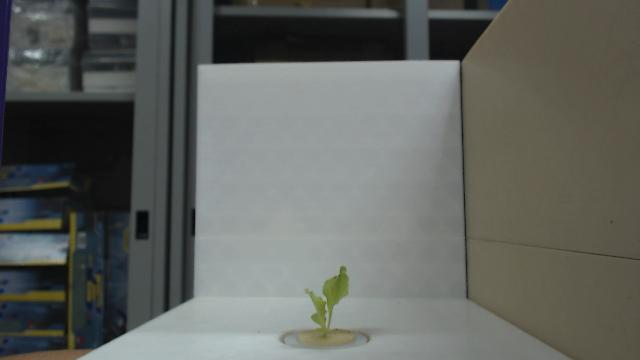Seedling Stage: (302, 262, 352, 340)
